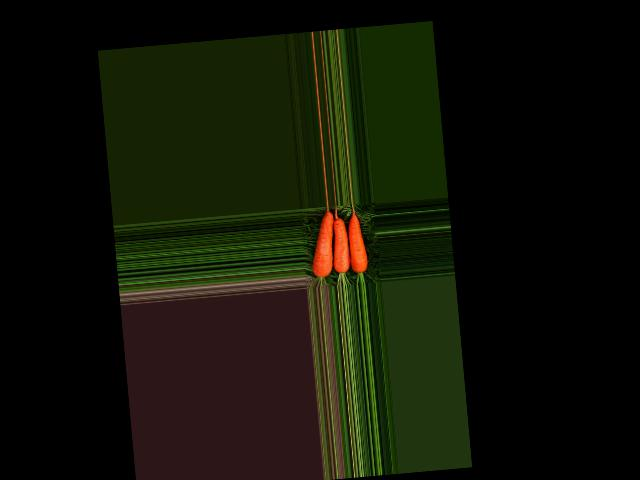carrot: (306, 210, 338, 278)
